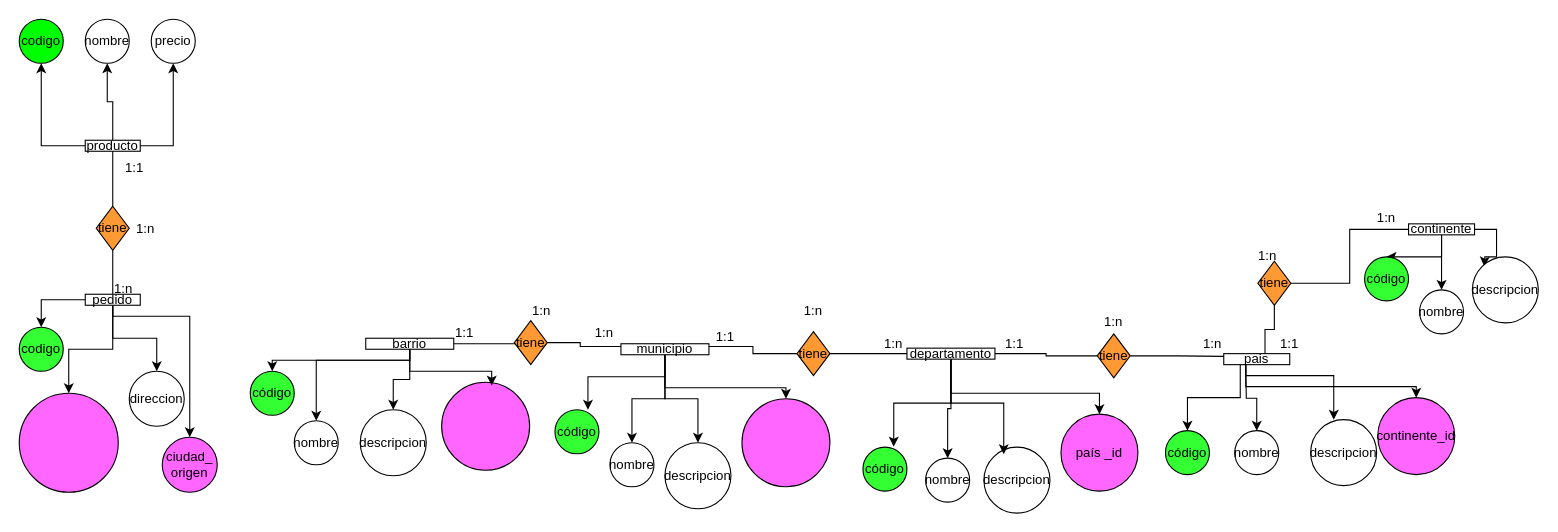
The diagram is 1558 pixels wide and 532 high, and some of its shapes have lost their labels. Each missing label, with the centre of its shape:
"barrio_destino" belongs at (x=68, y=442).
"departamento _id" belongs at (x=785, y=442).
"municipio_id" belongs at (x=485, y=425).
